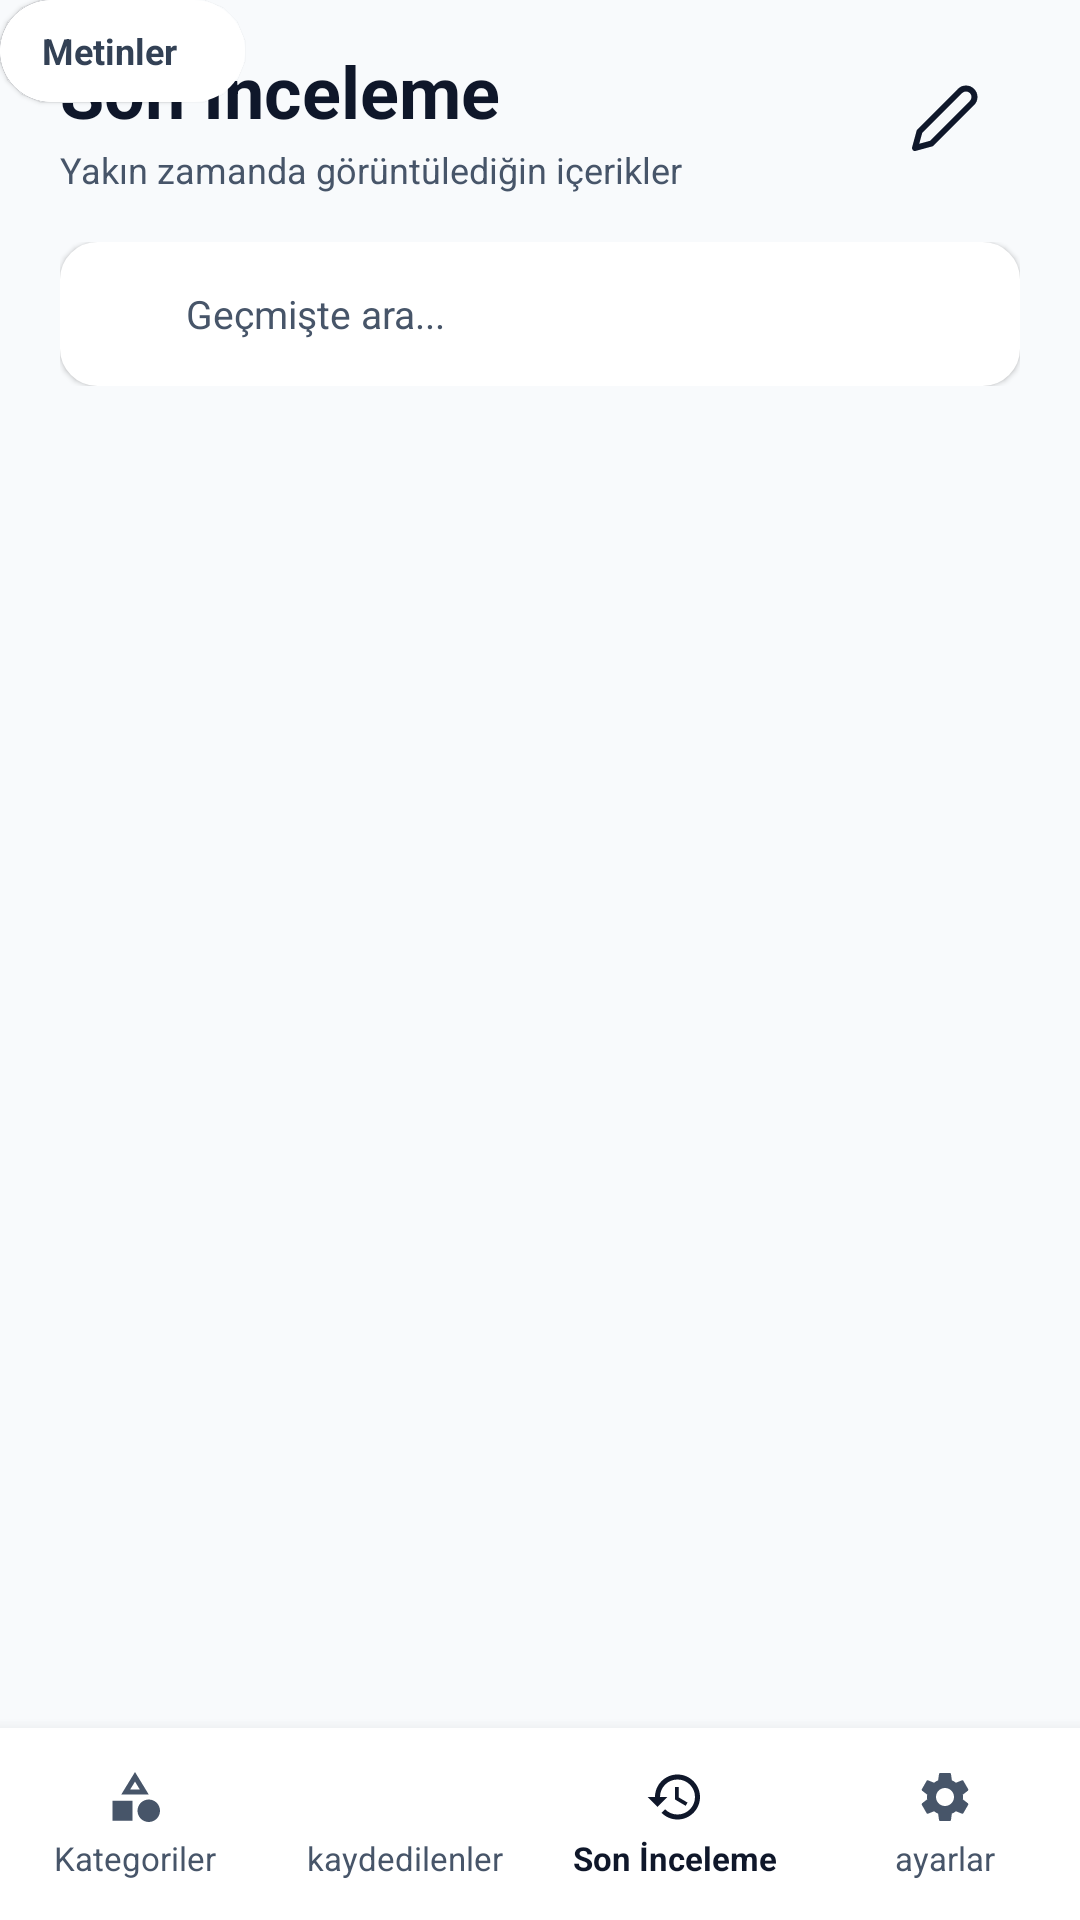

Icons on this 1080×1920 Android screen, each with the point to tap as (x,y):
history: (674,1797)
pen: (945,118)
